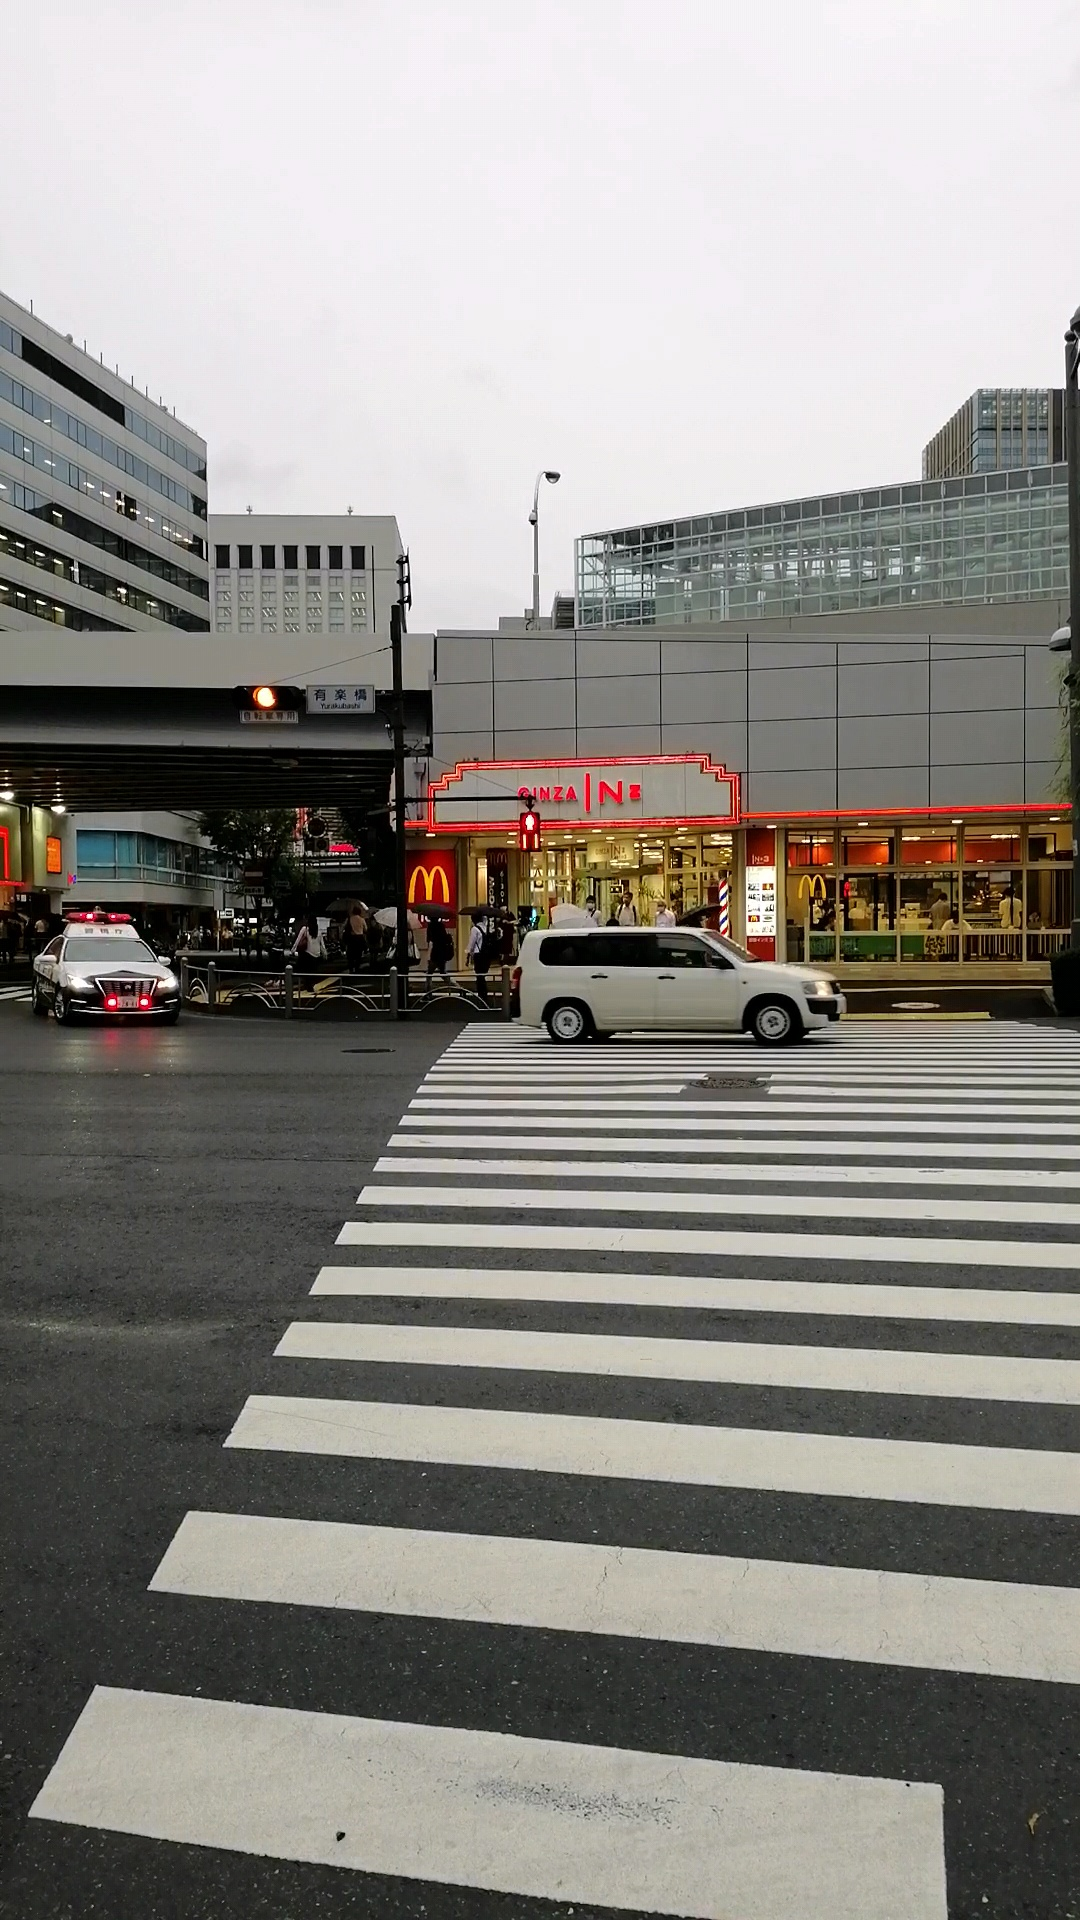red: (518, 811, 541, 855)
